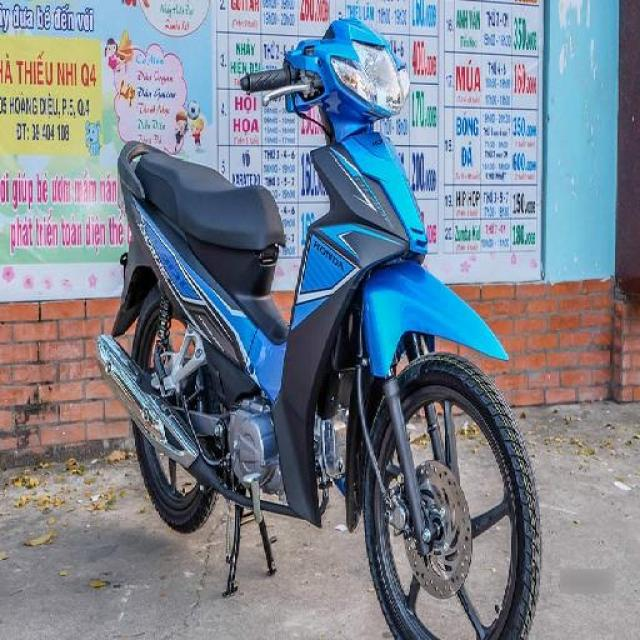All: (88, 18, 546, 640)
Head: (240, 22, 416, 122)
Tail: (106, 134, 172, 210)
